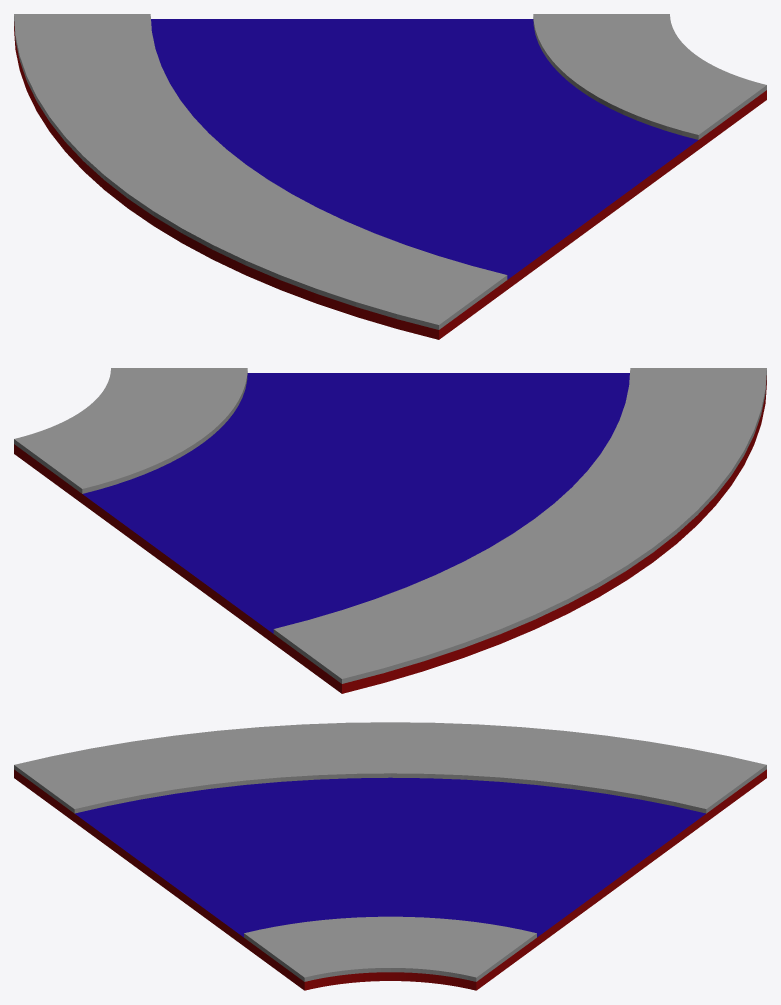
The model's file is Street_00_DEG60.fbx.
The picture shows the model from 3 angles, top to bottom: view 1: azimuth 30°, elevation 25°; view 2: azimuth 150°, elevation 25°; view 3: azimuth 270°, elevation 25°; orthographic projection. The views are drawn at different scales.
Visible parts, largest first — view 1: Box001; view 2: Box001; view 3: Box001.
Part boxes in pixels (x1=…): Box001: x1=14, y1=14, x2=766, y2=339; Box001: x1=14, y1=368, x2=766, y2=693; Box001: x1=14, y1=722, x2=766, y2=990.
Bounding box in the file's own units: 246 × 306 × 5.91.
